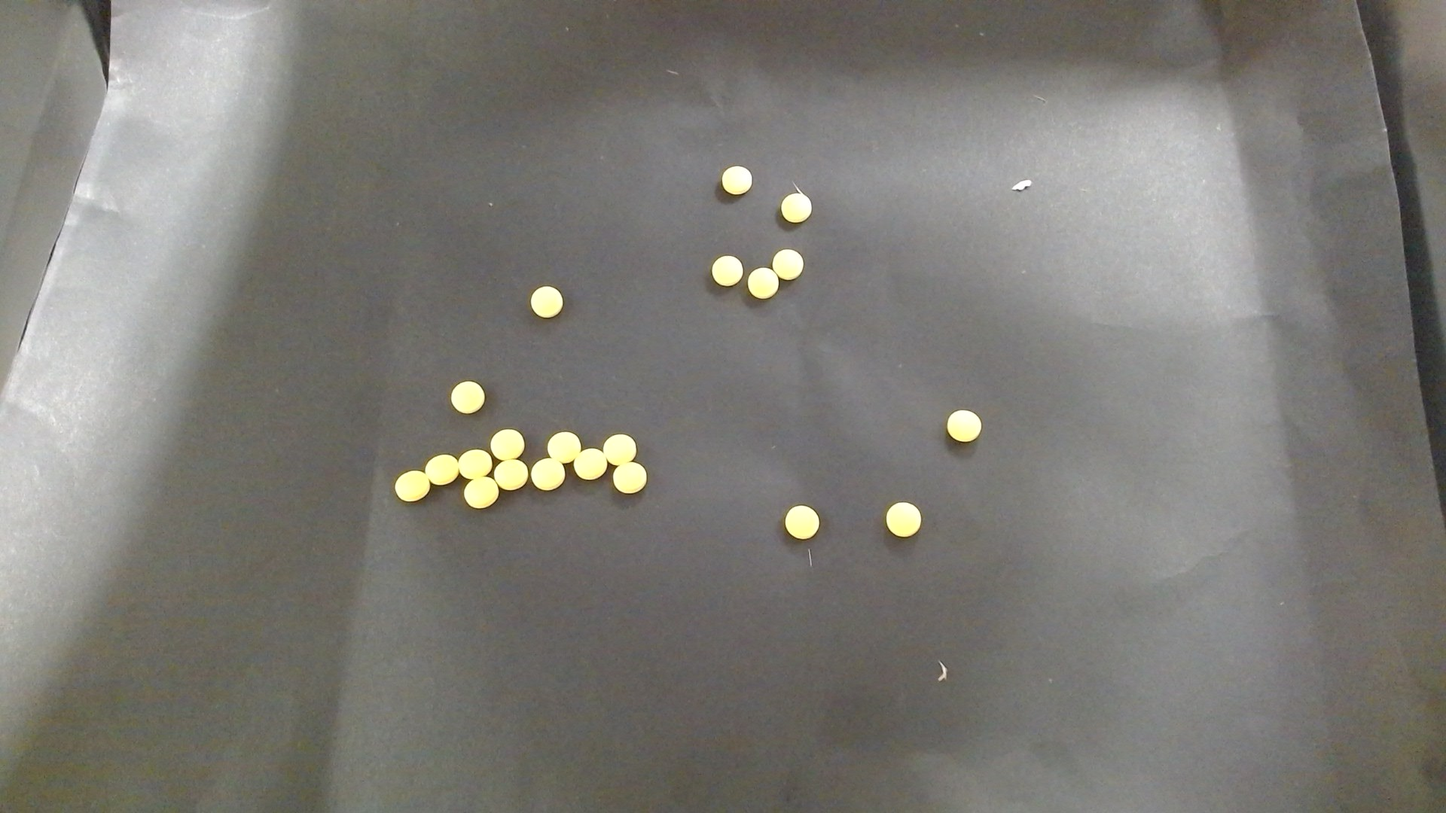Circle: (782, 504, 819, 540), (884, 502, 921, 537), (450, 380, 485, 415), (611, 461, 647, 495), (393, 470, 430, 503), (945, 409, 981, 442), (529, 285, 564, 318), (463, 475, 498, 508), (490, 429, 525, 461), (493, 459, 528, 491), (710, 254, 743, 287), (547, 431, 581, 463), (746, 266, 778, 300), (531, 458, 565, 490), (771, 248, 804, 280), (458, 449, 492, 480), (602, 434, 637, 464), (426, 454, 459, 485), (781, 191, 813, 222), (574, 449, 606, 480), (720, 165, 752, 195)
